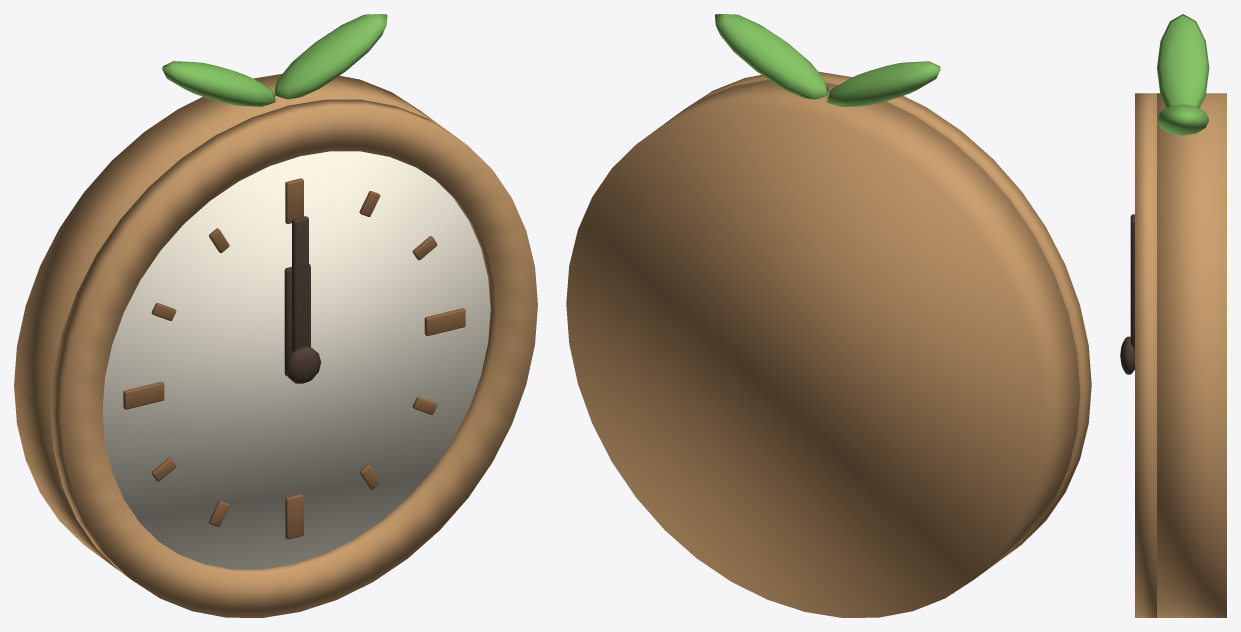
File: wall-clock.glb
The picture shows the model from 3 angles, left to right: view 1: azimuth 30°, elevation 25°; view 2: azimuth 150°, elevation 25°; view 3: azimuth 270°, elevation 25°; orthographic projection. The views are drawn at different scales.
Visible parts, largest first — view 1: clock, minuteHand, hourHand; view 2: clock; view 3: clock, minuteHand.
Part boxes in pixels (<box>): clock: <box>14,14,537,617</box>; minuteHand: <box>292,216,308,352</box>; hourHand: <box>284,263,310,375</box>; clock: <box>566,14,1091,617</box>; clock: <box>1120,14,1226,617</box>; minuteHand: <box>1130,214,1134,370</box>.
Size of the model in its own units: 0.6 by 0.6682 by 0.122.
